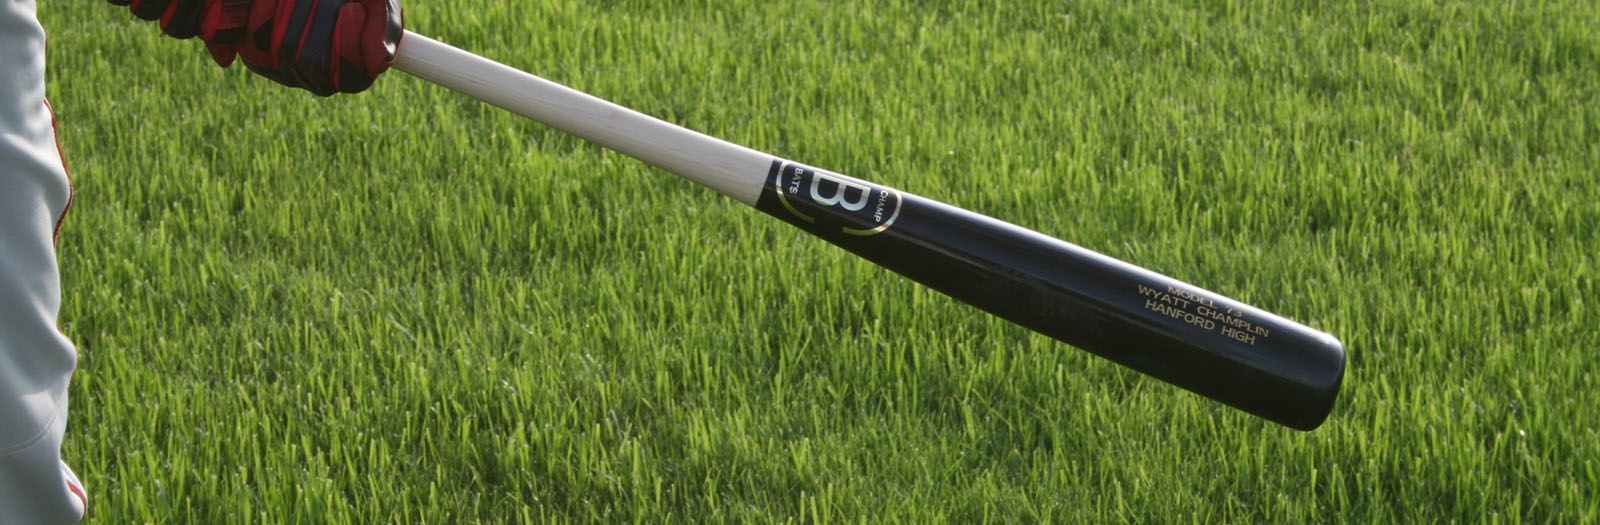bita: (330, 14, 1350, 424)
